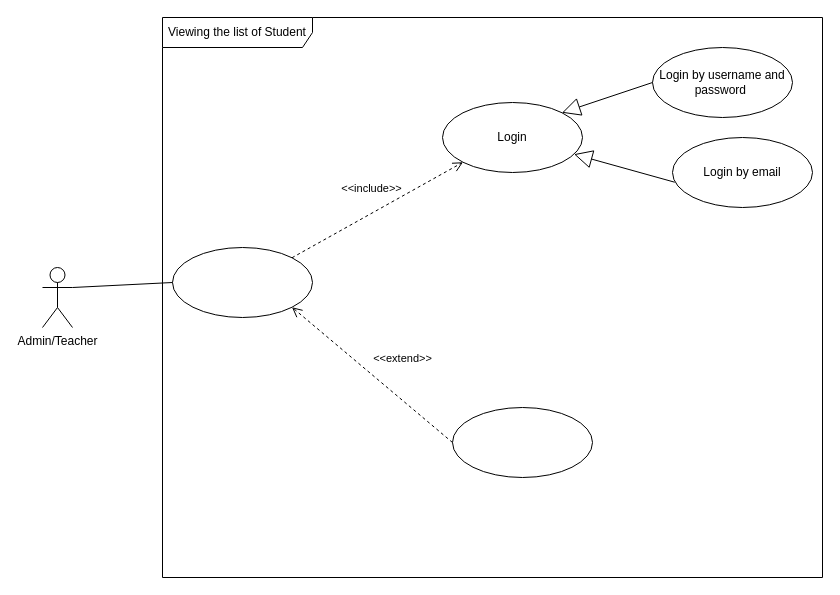
The diagram is 840 pixels wide and 595 high, and some of its shapes have lost their labels. The shapes that lost their labels are listed below. From the top down, each one's box as (x1, y1, x2, y2) in pixels, then its label:
(172, 246, 312, 318): View the list of student
(452, 406, 592, 478): Search student
